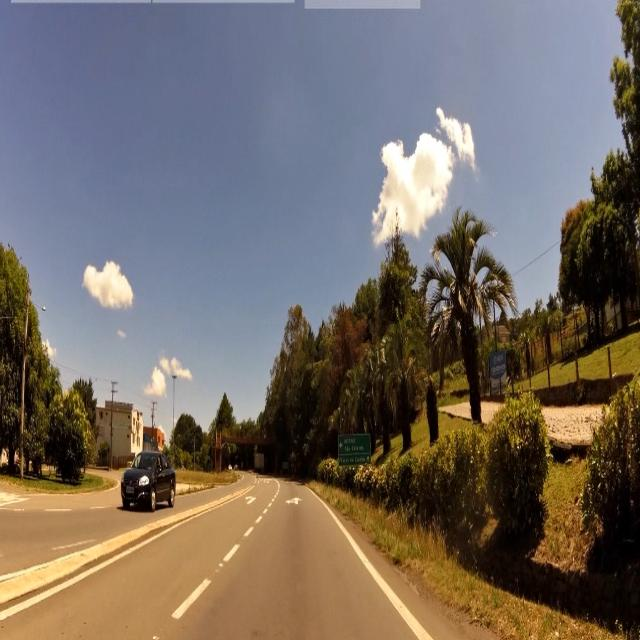I-4: (338, 437, 371, 466)
